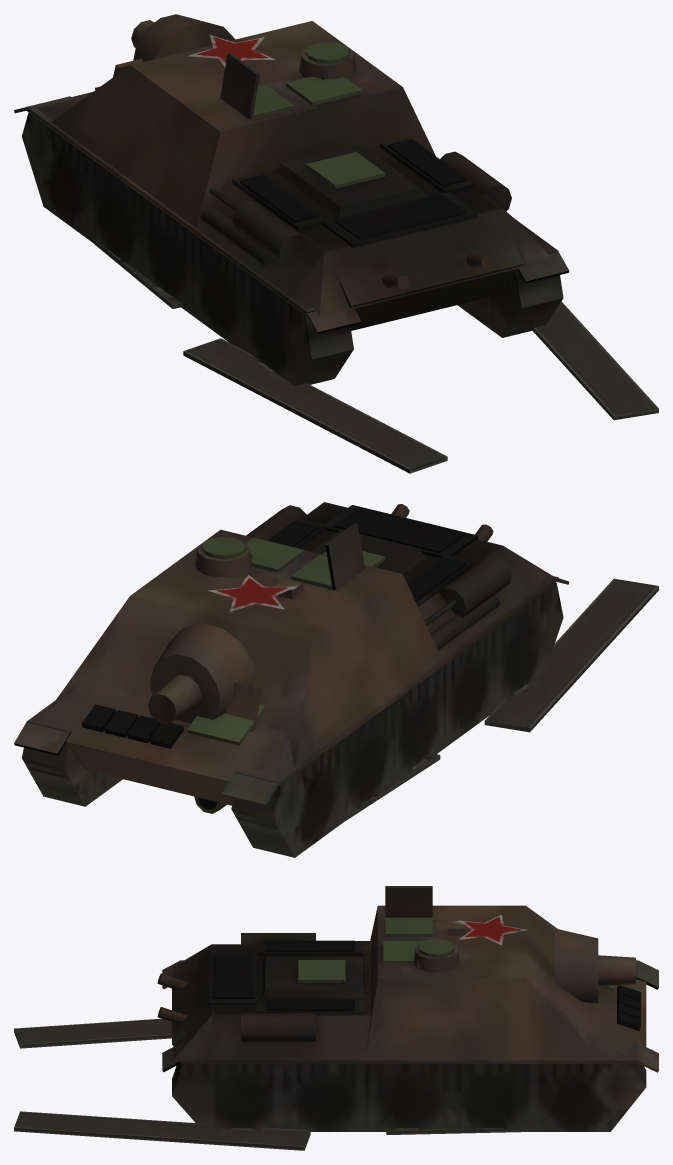
3 renders of one model, top to bottom at view 1: azimuth 30°, elevation 25°; view 2: azimuth 150°, elevation 25°; view 3: azimuth 270°, elevation 25°, orthographic. The views are drawn at different scales.
Visible parts, largest first — view 1: hull_ko, hull_trackL, hull_trackR, hull_ok; view 2: hull_ko, hull_trackL, hull_ok; view 3: hull_ko, hull_trackR, hull_ok, hull_trackL.
Part boxes in pixels (<box>): hull_ko: <box>14,14,569,385</box>; hull_trackL: <box>93,239,447,473</box>; hull_trackR: <box>532,301,658,420</box>; hull_ok: <box>95,41,385,188</box>; hull_ko: <box>14,502,569,857</box>; hull_trackL: <box>345,578,658,820</box>; hull_ok: <box>187,537,385,745</box>; hull_ko: <box>157,886,658,1131</box>; hull_trackR: <box>14,1111,528,1150</box>; hull_ok: <box>298,917,614,991</box>; hull_trackL: <box>14,1018,171,1048</box>.
Size of the model in its own units: 4.14 by 2.86 by 8.16.
Materials: 16 (16 with a texture image).
